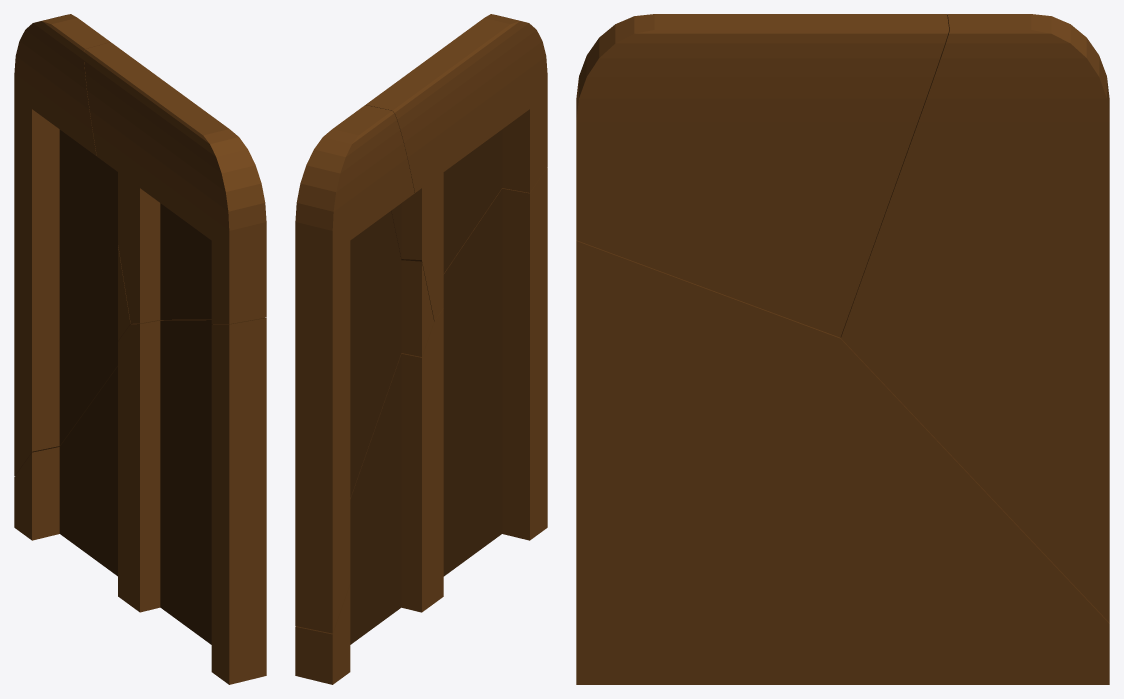
Rendered from Door.fbx.
3 views of the same model, side by side, from view 1: azimuth 30°, elevation 25°; view 2: azimuth 150°, elevation 25°; view 3: azimuth 270°, elevation 25° (orthographic). The views are drawn at different scales.
Visible parts, largest first — view 1: Cube_cell.002, Cube_cell.001, Cube_cell; view 2: Cube_cell.002, Cube_cell.001, Cube_cell; view 3: Cube_cell.002, Cube_cell.001, Cube_cell.
Part boxes in pixels (bbox=[...]): Cube_cell.002: bbox=[14, 318, 266, 684]; Cube_cell.001: bbox=[14, 14, 132, 476]; Cube_cell: bbox=[84, 42, 266, 324]; Cube_cell.002: bbox=[295, 167, 547, 684]; Cube_cell.001: bbox=[295, 105, 434, 633]; Cube_cell: bbox=[366, 14, 547, 321]; Cube_cell.002: bbox=[576, 240, 1109, 684]; Cube_cell.001: bbox=[840, 14, 1109, 622]; Cube_cell: bbox=[576, 14, 949, 337].
Bounding box in the file's own units: 16.09 × 216 × 161.
